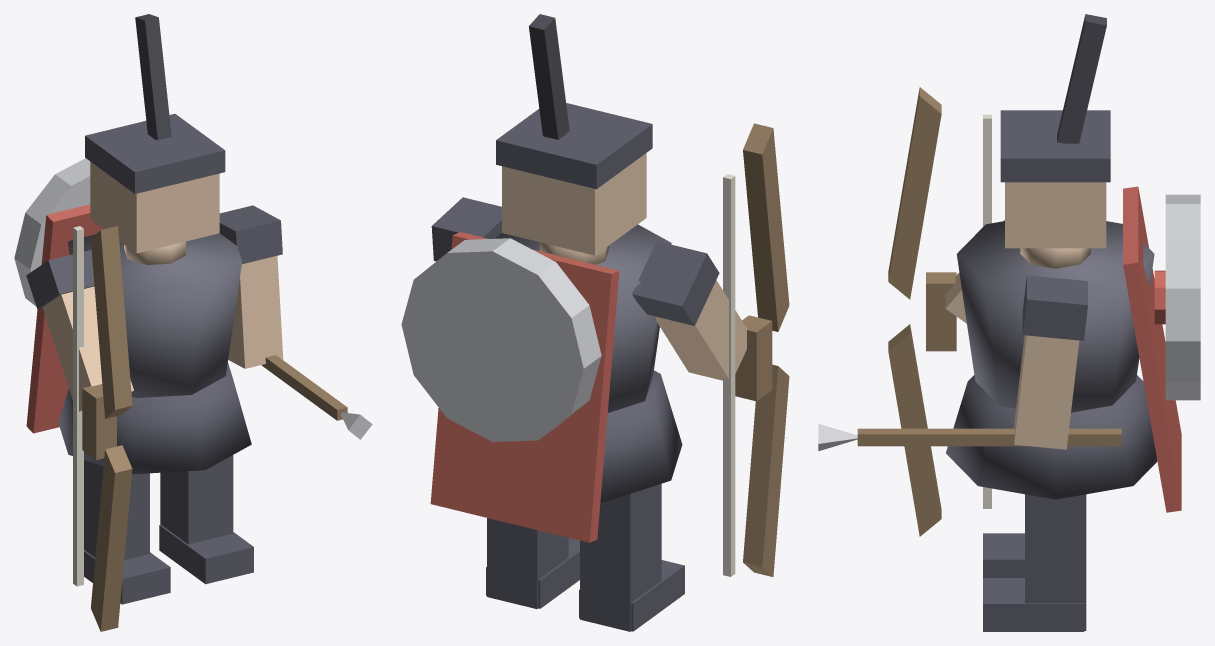
The model's file is troop-wudang.glb.
The picture shows the model from 3 angles, left to right: view 1: azimuth 30°, elevation 25°; view 2: azimuth 150°, elevation 25°; view 3: azimuth 270°, elevation 25°; orthographic projection. The views are drawn at different scales.
Parts seen in each view (by area): view 1: body, skirt, head, headband, bow_limb_u, bow_limb_d, cape, leg_r, arm_r, shield_rim, bow_string, arm_l (+10 smaller); view 2: shield_rim, cape, head, leg_l, headband, body, skirt, bow_limb_u, bow_limb_d, leg_r, brace_l, bow_string (+7 smaller); view 3: body, skirt, cape, shield_rim, headband, head, leg_r, arm_r, bow_limb_u, bow_limb_d, arrow, foot_r (+9 smaller).
Part boxes in pixels (x1,y1,x2,y2): body: (68,233,241,397); skirt: (58,362,251,474); head: (90,161,219,253); headband: (85,114,225,193); bow_limb_u: (90,226,132,418); bow_limb_d: (91,445,132,631); cape: (26,204,102,433); leg_r: (160,455,233,544); arm_r: (228,255,283,368); shield_rim: (14,158,90,306); bow_string: (73,226,83,586); arm_l: (42,286,133,411); shield_rim: (401,238,601,441); cape: (430,232,619,542); head: (502,153,646,255); leg_l: (580,483,661,631); headband: (496,103,652,189); body: (495,224,671,412); skirt: (600,370,682,502); bow_limb_u: (743,123,789,331); bow_limb_d: (743,364,789,576); leg_r: (487,518,568,608); brace_l: (632,241,719,325); bow_string: (723,174,735,576); body: (956,221,1154,412); skirt: (946,375,1157,499); cape: (1123,186,1181,512); shield_rim: (1165,194,1200,400); headband: (1000,110,1110,182); head: (1005,182,1106,248); leg_r: (1025,494,1086,630); arm_r: (1014,335,1079,449); bow_limb_u: (888,87,941,299); bow_limb_d: (888,324,941,536); arrow: (857,428,1121,446); foot_r: (983,578,1084,631).
Bounding box in the file's own units: 0.133 × 0.2934 × 0.174.
